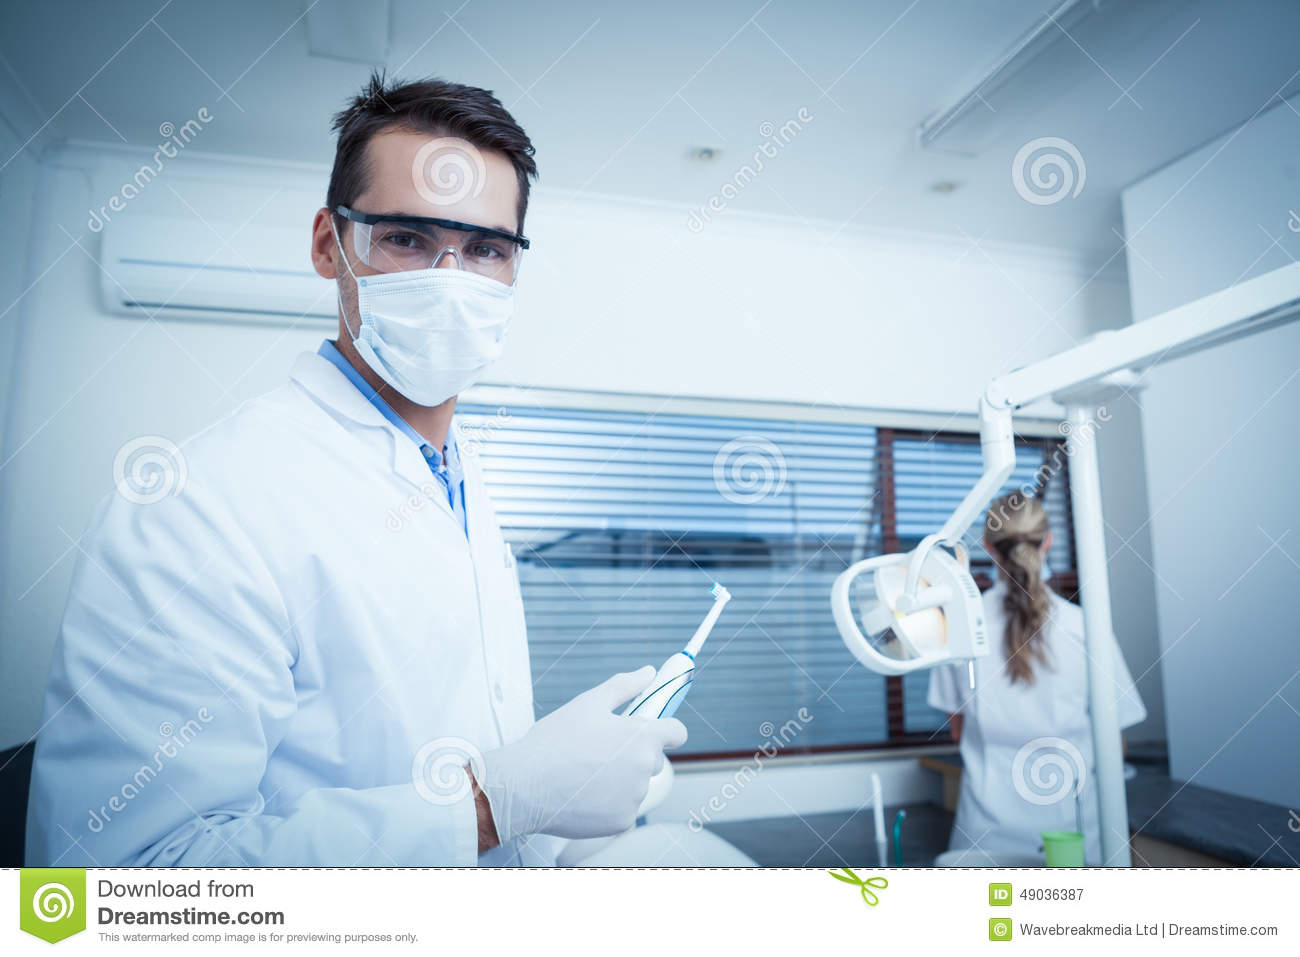mask: (366, 264, 517, 405)
